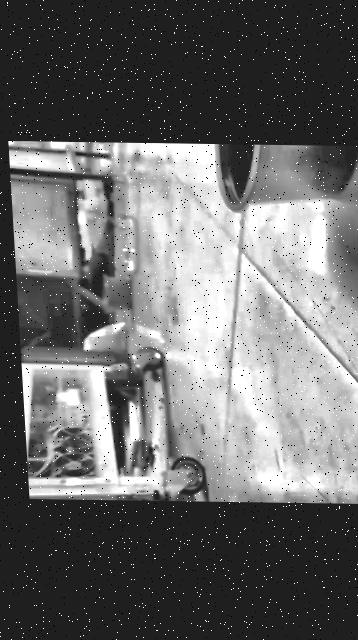pot: (213, 144, 358, 213)
